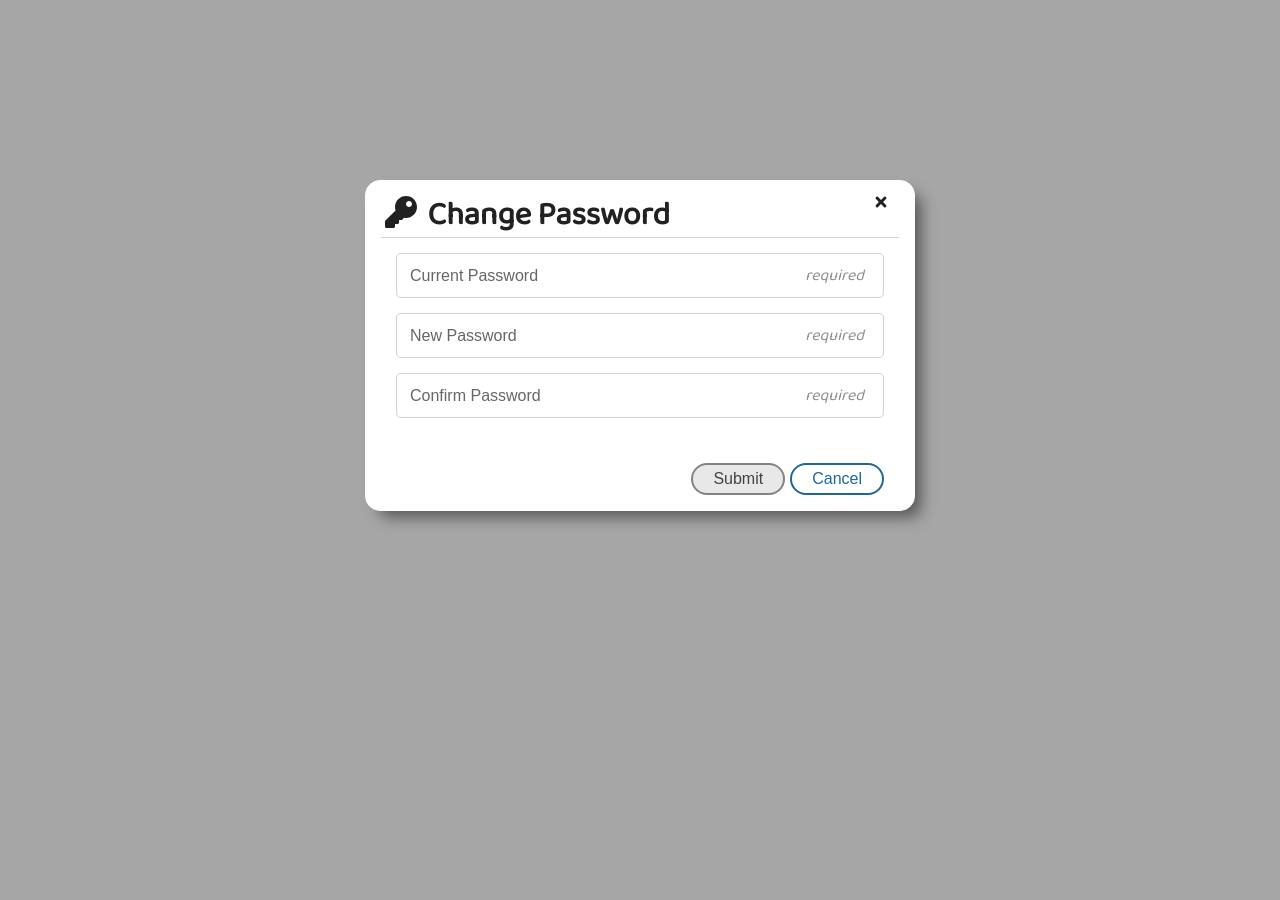
Test: <ChangePasswordModal /> › should disable the submit button if there is an input error
The image size is (1280, 900).
Step 1. Type "someCurrentPassword" into the password field with test id "currentPasswordInput.input" → (640, 276), box [396,253,884,298]
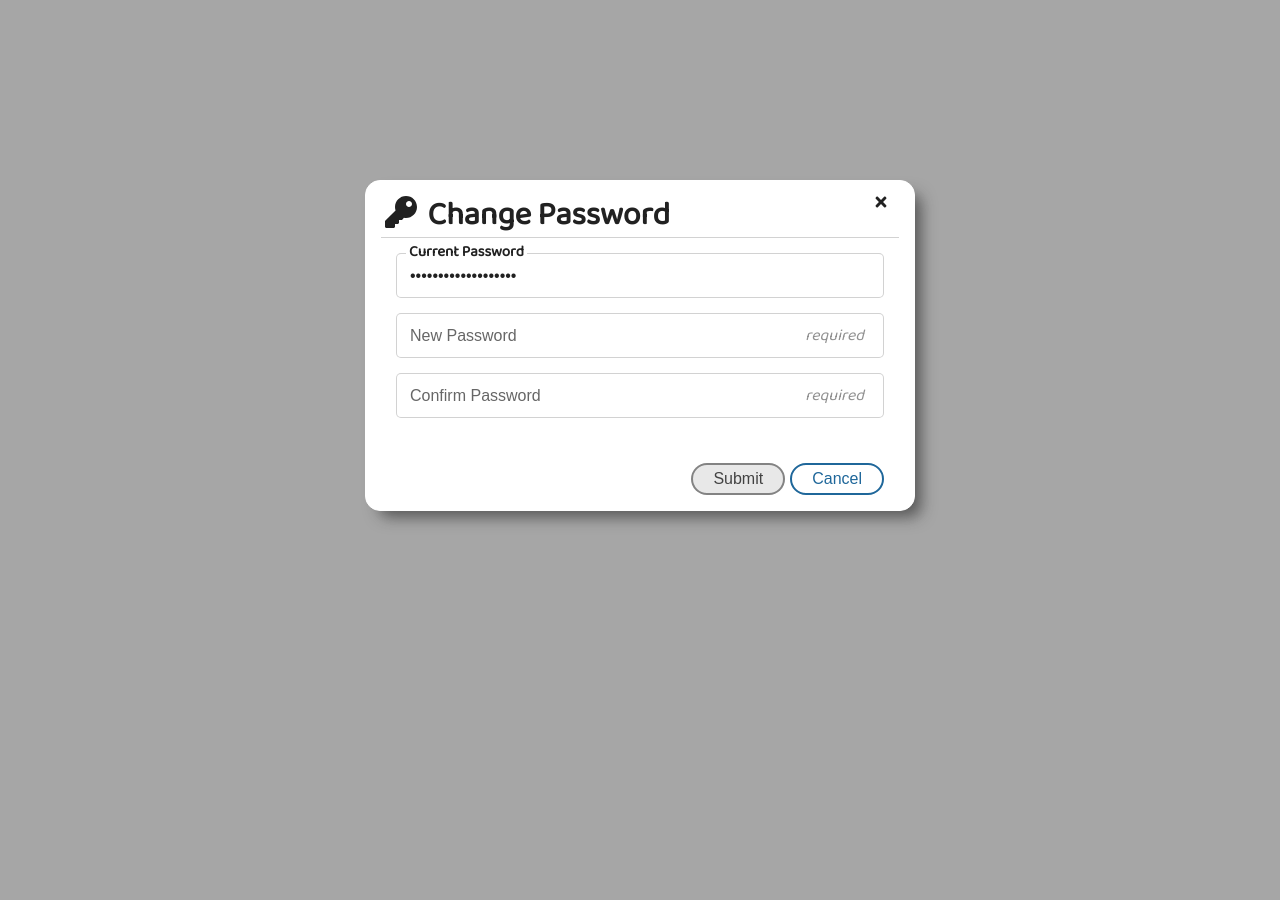
Step 2. Type "someNewPasswordInput" into the password field with test id "newPasswordInput.input" → (640, 336), box [396,313,884,358]
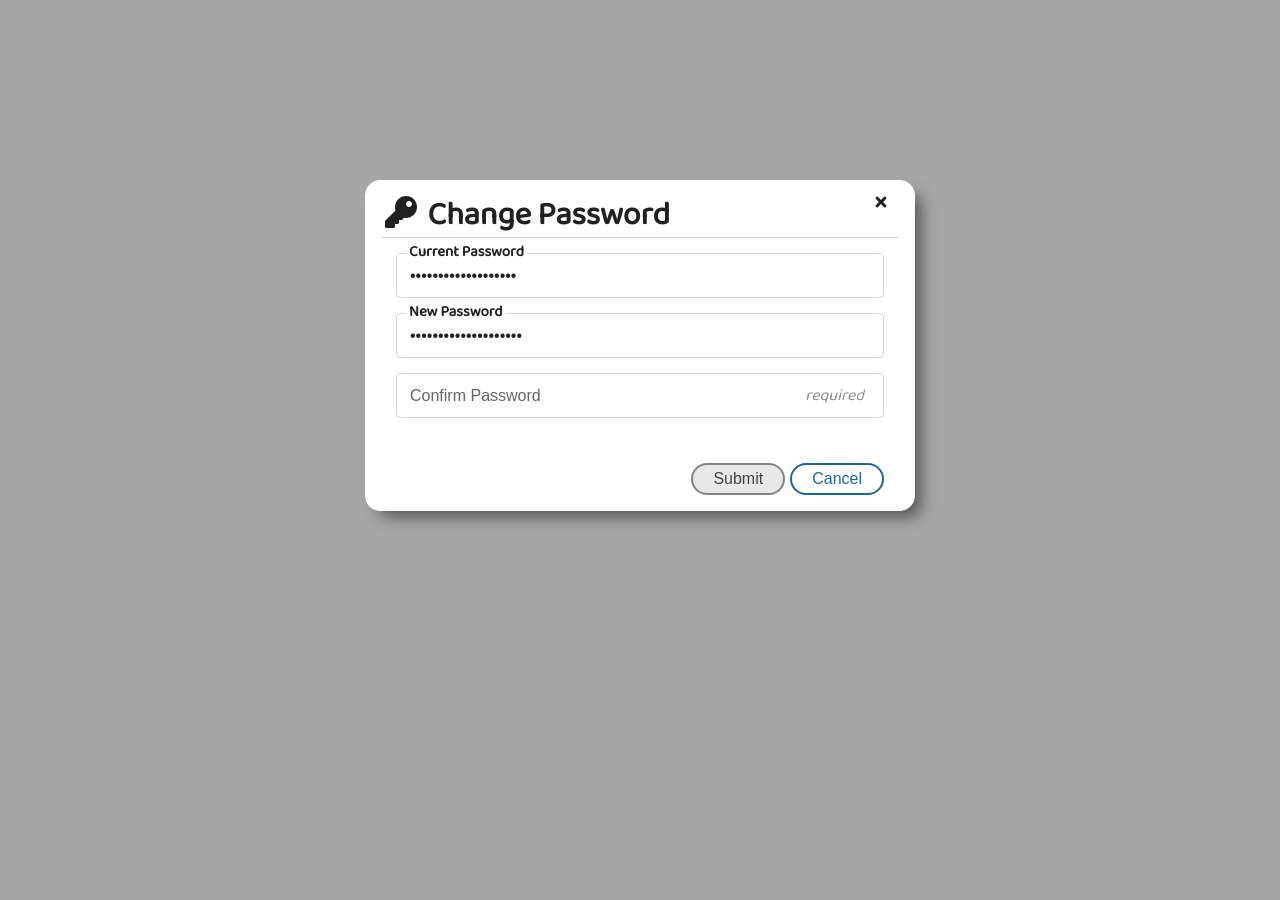
Step 3. Type "someConfirmPasswordInput" into the password field with test id "confirmPasswordInput.input" → (640, 396), box [396,373,884,418]
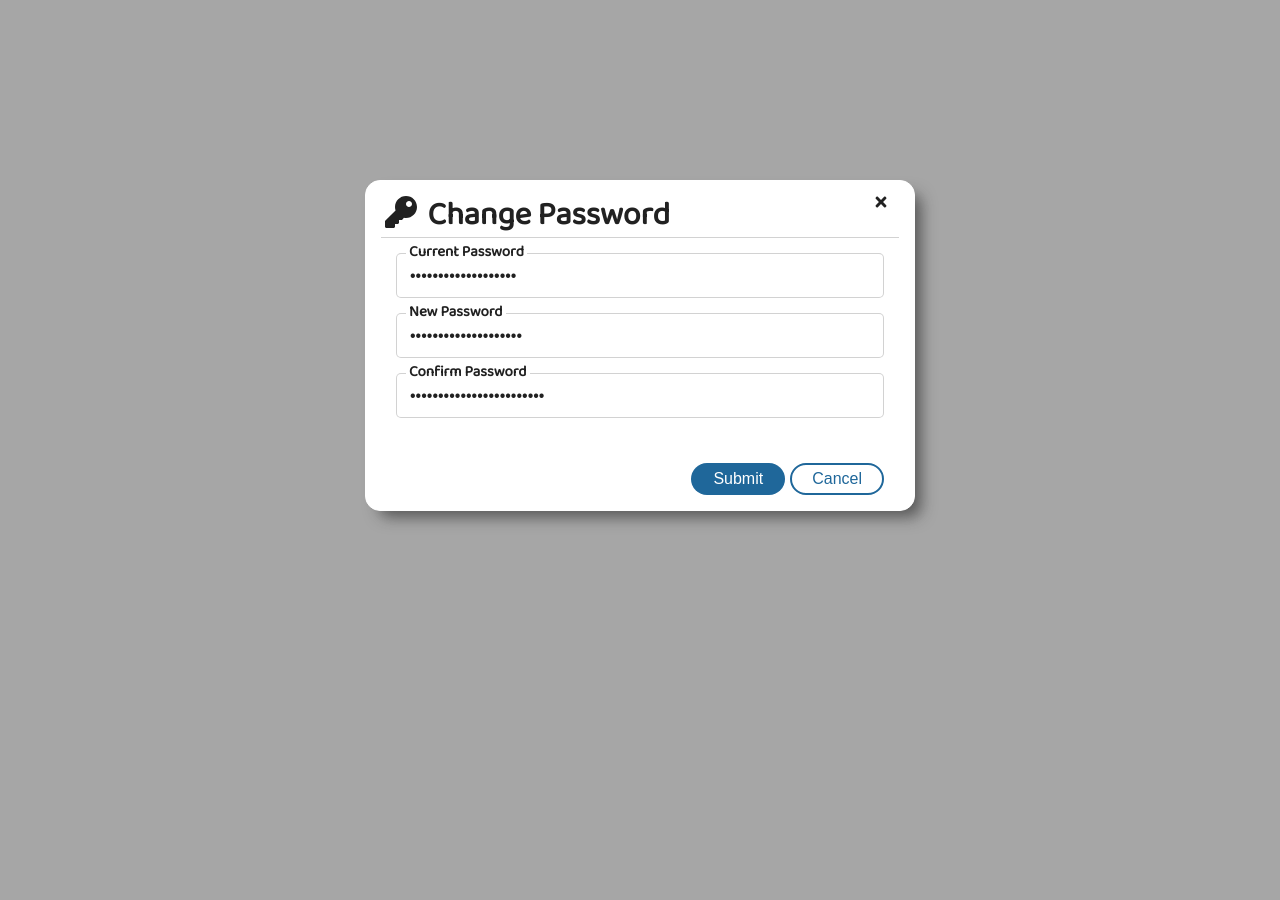
expect the text "password input does not match the new password" is not shown: met
Step 4. Click the button with test id "changePasswordModal.actions.primaryButton" → (738, 479), box [691,463,785,495]
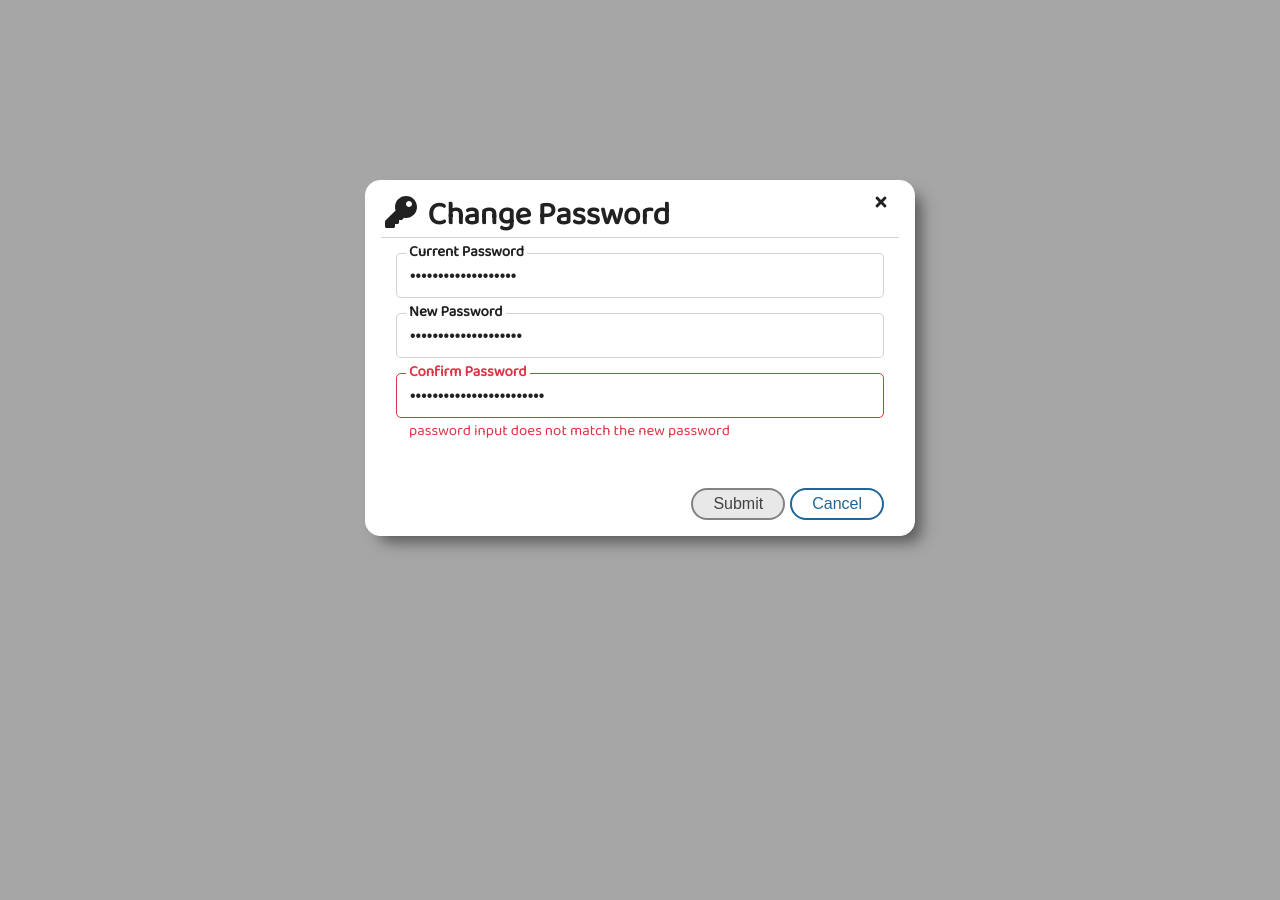
expect the button with test id "changePasswordModal.actions.primaryButton" is disabled: met, box [691,488,785,520]
